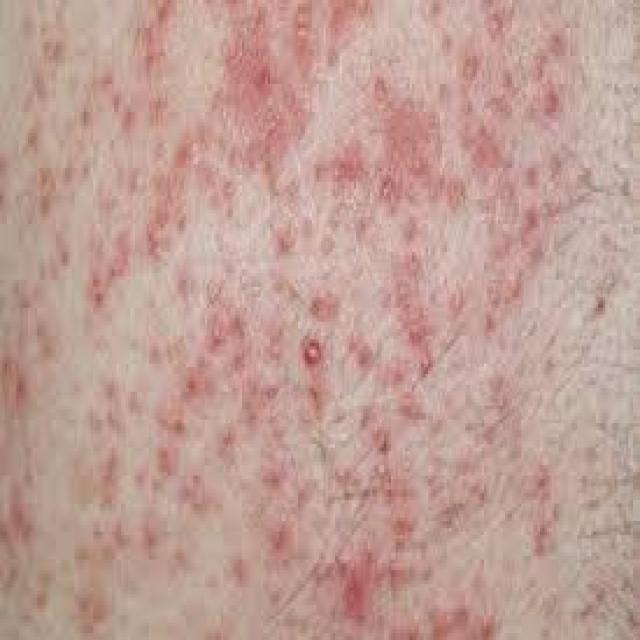Eczema: (0, 9, 588, 640)
